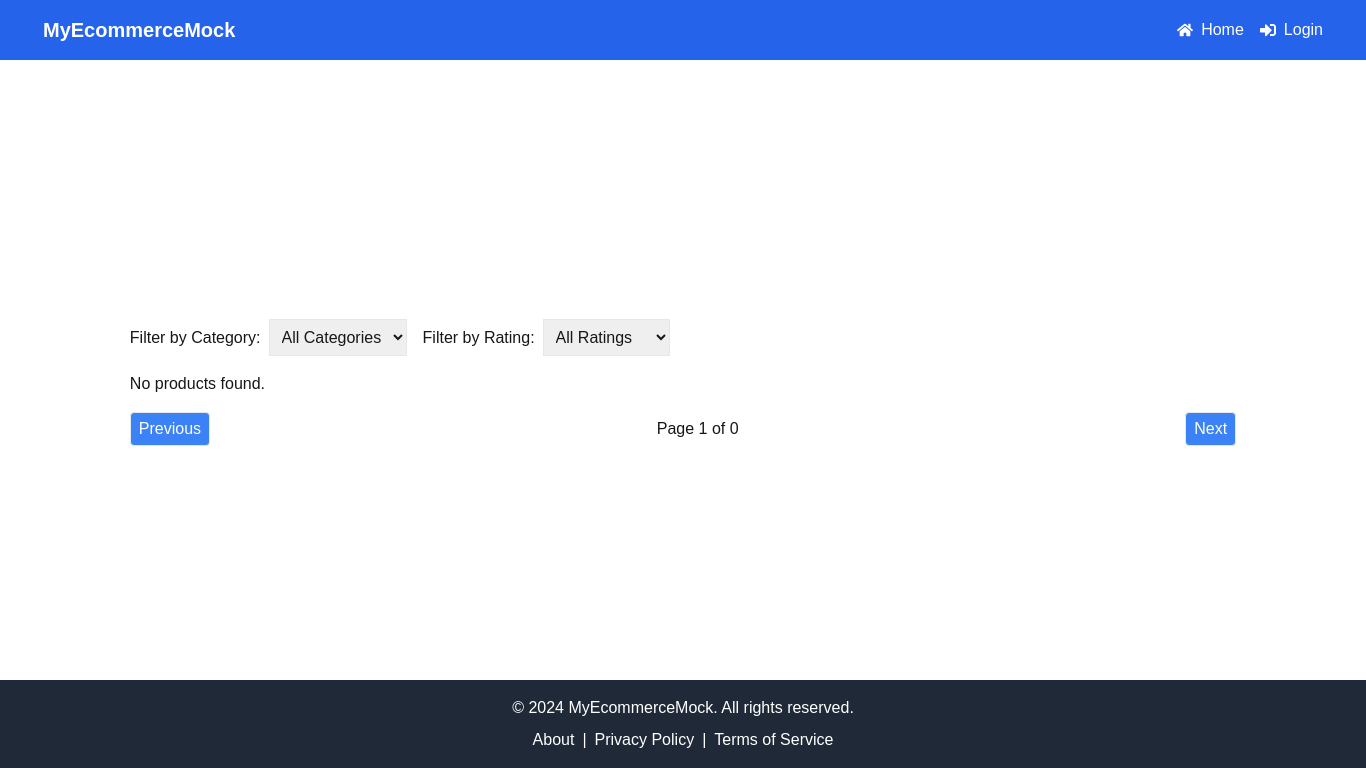
Test: Login Link Navigation via different viewports › should navigate to the login page on laptop
Note: Click the login link and validate navigation
Click the link to "/login".
click(1292, 30)  # box [1260,18,1323,42]
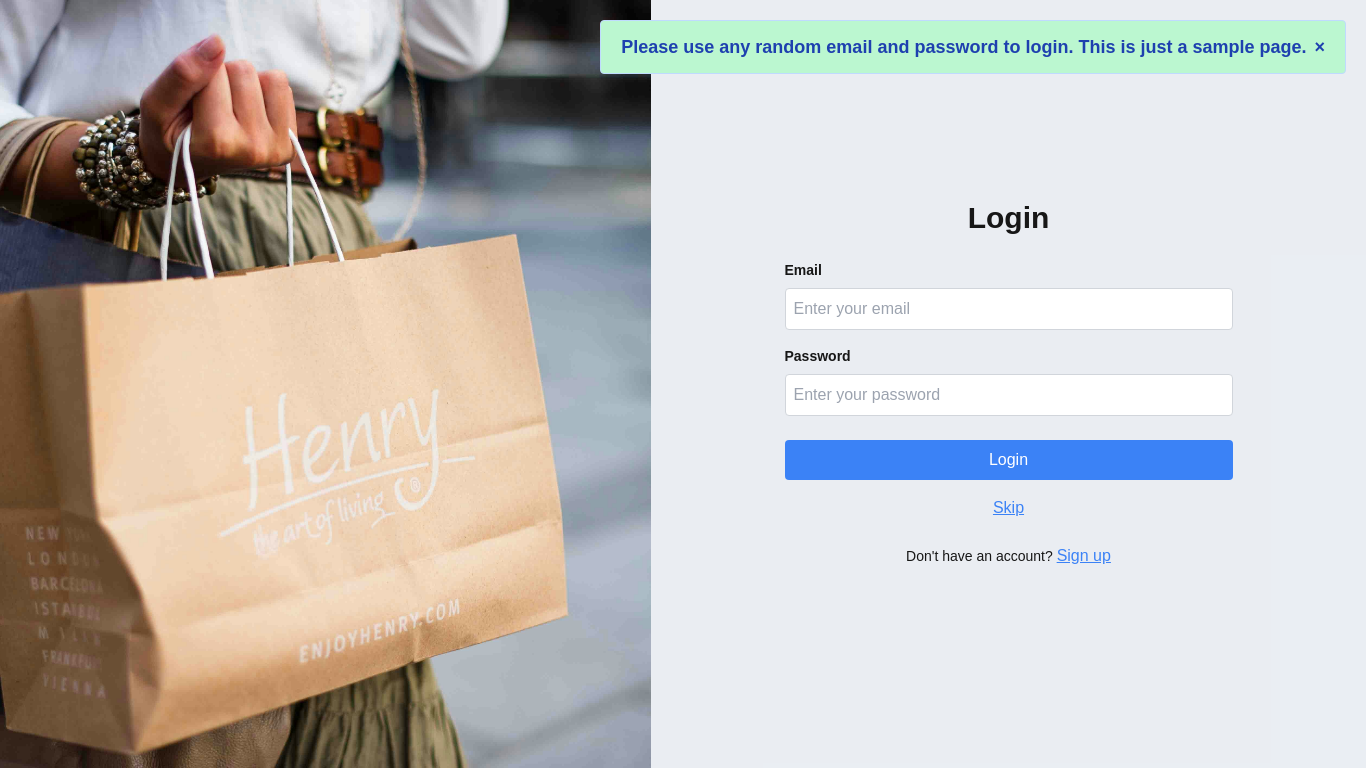
Result: the heading "Login" is shown at [968,200,1049,236]
